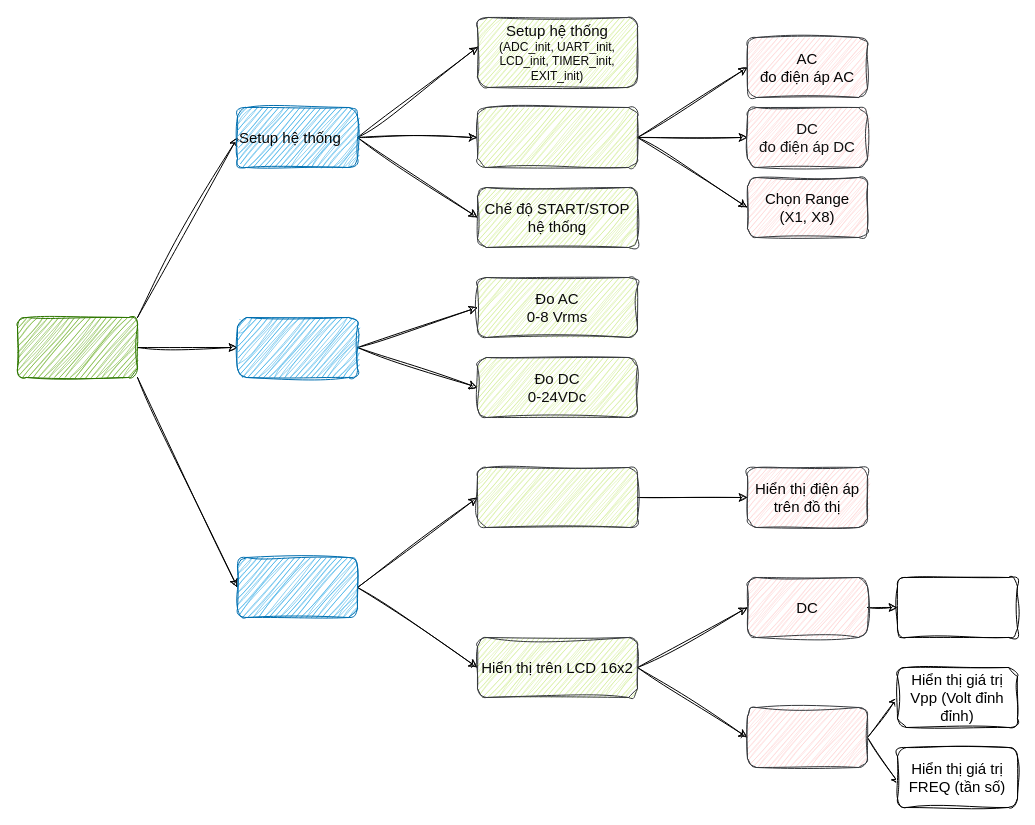
Some shapes in this 1035 by 825 pixel diagram are drawn without their labels. The centre of each missing label's shape, as x and y in pixels:
AC: (x=807, y=737)
Chọn mode: (x=557, y=137)
Chức năng chính của hệ thống: (x=77, y=347)
chức năng hiển thị: (x=297, y=587)
chức năng đo lường: (x=297, y=347)
Hiển thị giá trị Vdc(Điện áp DC): (x=957, y=607)
Hiển thị trên laptop: (x=557, y=497)
